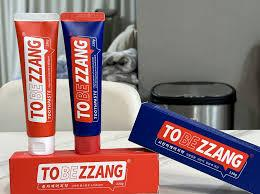toothpaste: (58, 9, 115, 156), (9, 10, 62, 157)
